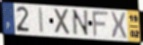2: (15, 5, 32, 34)
F: (91, 11, 110, 38)
I: (38, 6, 45, 34)
N: (71, 9, 90, 37)
X: (109, 10, 128, 39), (53, 7, 72, 36)
